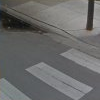crosswalk: (0, 47, 100, 100)
